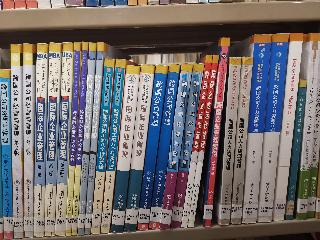book-spine: (254, 31, 291, 223), (270, 31, 304, 223), (239, 34, 273, 225), (200, 33, 232, 228), (158, 61, 194, 231), (169, 62, 205, 231), (122, 63, 156, 234), (187, 53, 220, 229), (181, 54, 213, 228), (148, 63, 181, 230), (137, 65, 167, 232), (110, 64, 139, 234), (99, 59, 127, 235), (89, 59, 116, 234), (52, 42, 75, 237), (297, 32, 320, 221), (218, 57, 243, 227), (76, 40, 97, 236), (83, 41, 104, 237), (42, 41, 62, 236), (230, 56, 253, 225), (70, 41, 89, 237), (63, 41, 82, 236), (284, 79, 309, 221), (9, 43, 24, 239), (33, 43, 48, 237), (0, 69, 14, 238), (22, 43, 34, 238)
